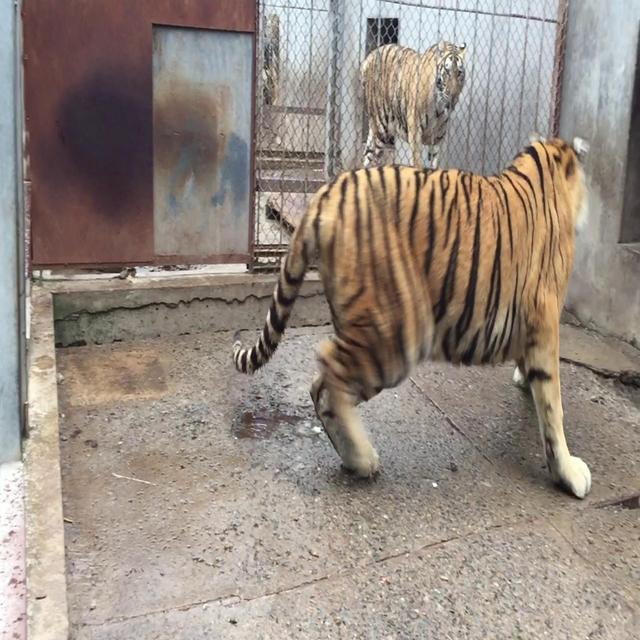tiger: (231, 132, 593, 499), (357, 39, 467, 169), (155, 80, 234, 212)
